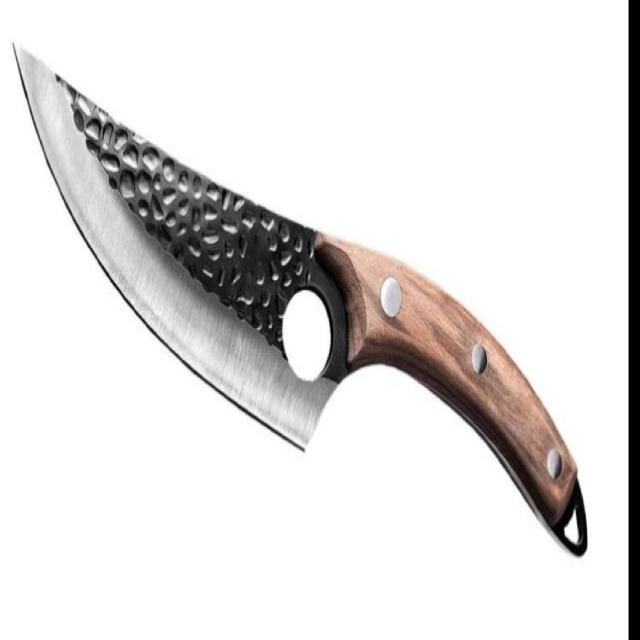Weapon: (14, 48, 587, 556)
